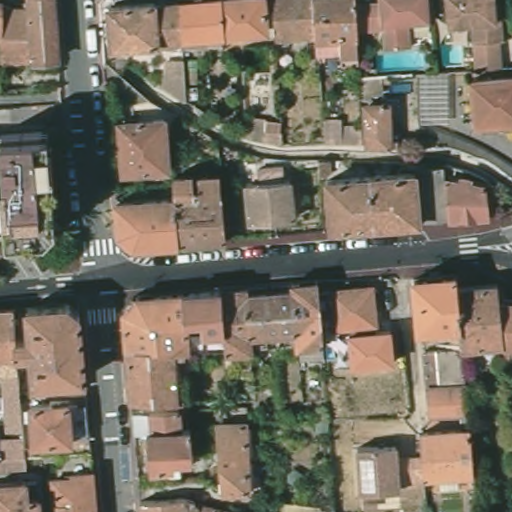pool: (378, 50, 431, 71), (444, 42, 469, 69)
